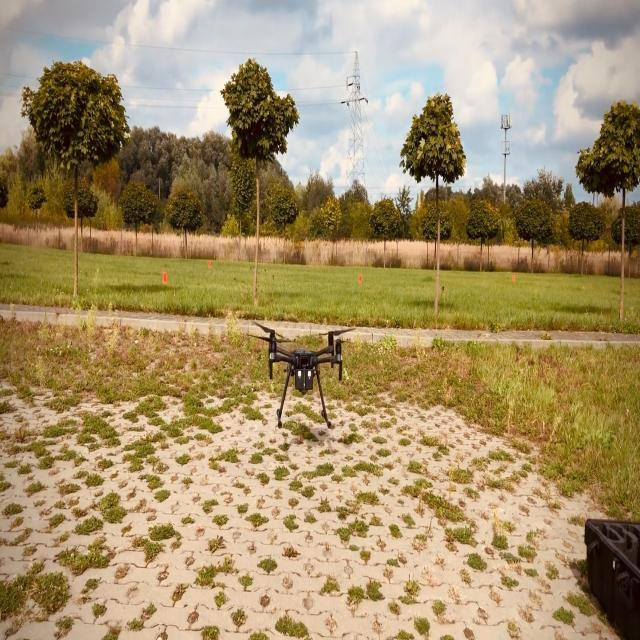drone: (247, 320, 354, 430)
